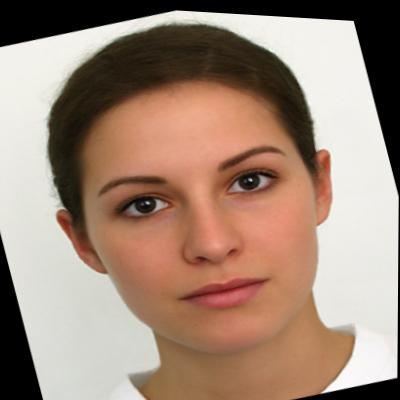netural: (62, 60, 346, 381)
